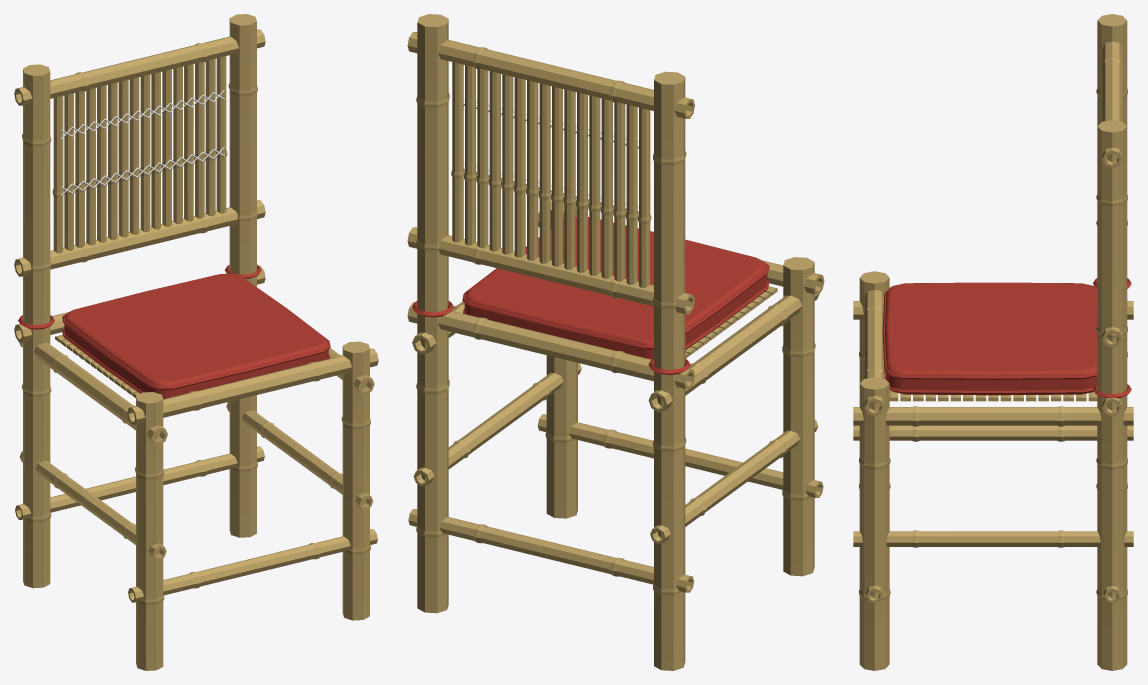
The model's file is ghe_tre_dem.mid.glb.
3 views of the same model, side by side, from view 1: azimuth 30°, elevation 25°; view 2: azimuth 150°, elevation 25°; view 3: azimuth 270°, elevation 25° (orthographic). The views are drawn at different scales.
Parts seen in each view (by area): view 1: ghe_tre_dem; view 2: ghe_tre_dem; view 3: ghe_tre_dem.
Part boxes in pixels (x1=…): ghe_tre_dem: x1=14, y1=14, x2=378, y2=670; ghe_tre_dem: x1=407, y1=14, x2=824, y2=670; ghe_tre_dem: x1=853, y1=14, x2=1133, y2=670.
Size of the model in its own units: 0.445 by 0.9 by 0.425.
